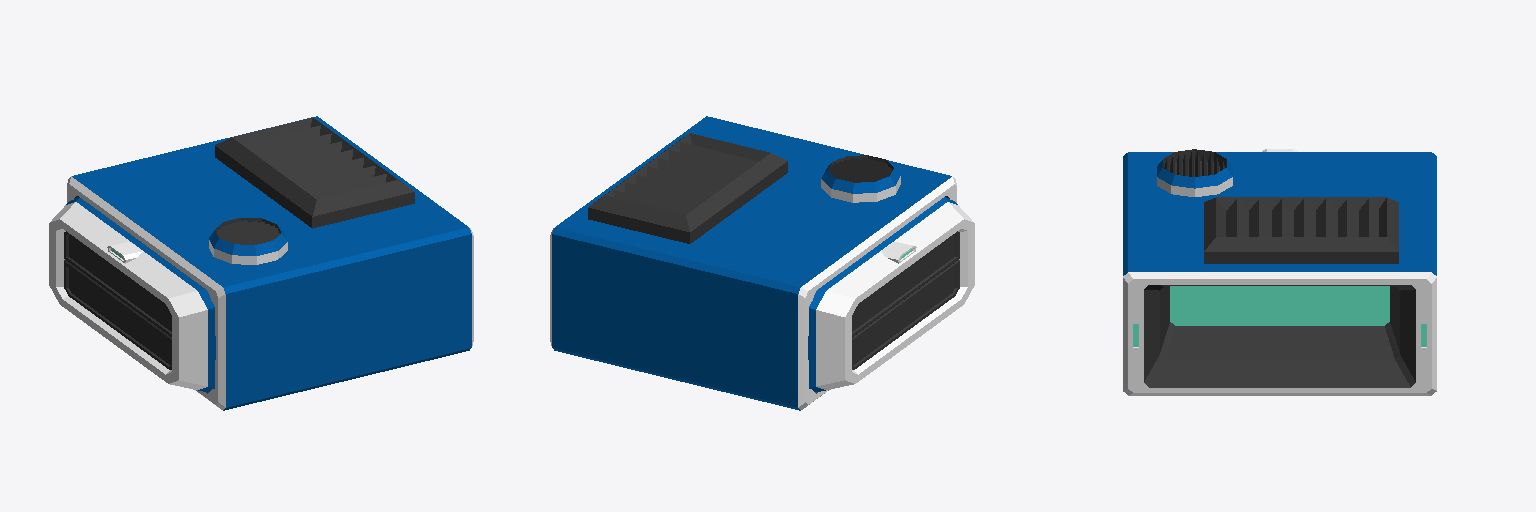
The model's file is DropPodBig.obj.
The picture shows the model from 3 angles: view 1: azimuth 30°, elevation 25°; view 2: azimuth 150°, elevation 25°; view 3: azimuth 270°, elevation 25°; orthographic projection.
Size of the model in its own units: 1.54 by 0.7532 by 1.48.